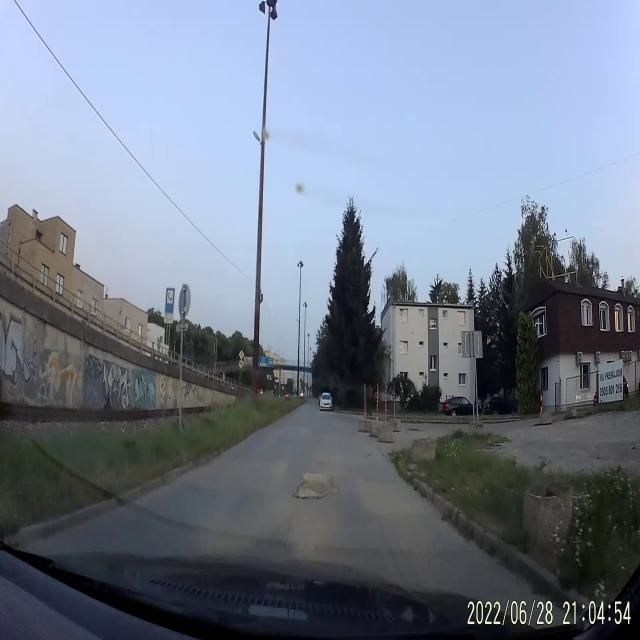Pothole: (292, 468, 334, 502)
